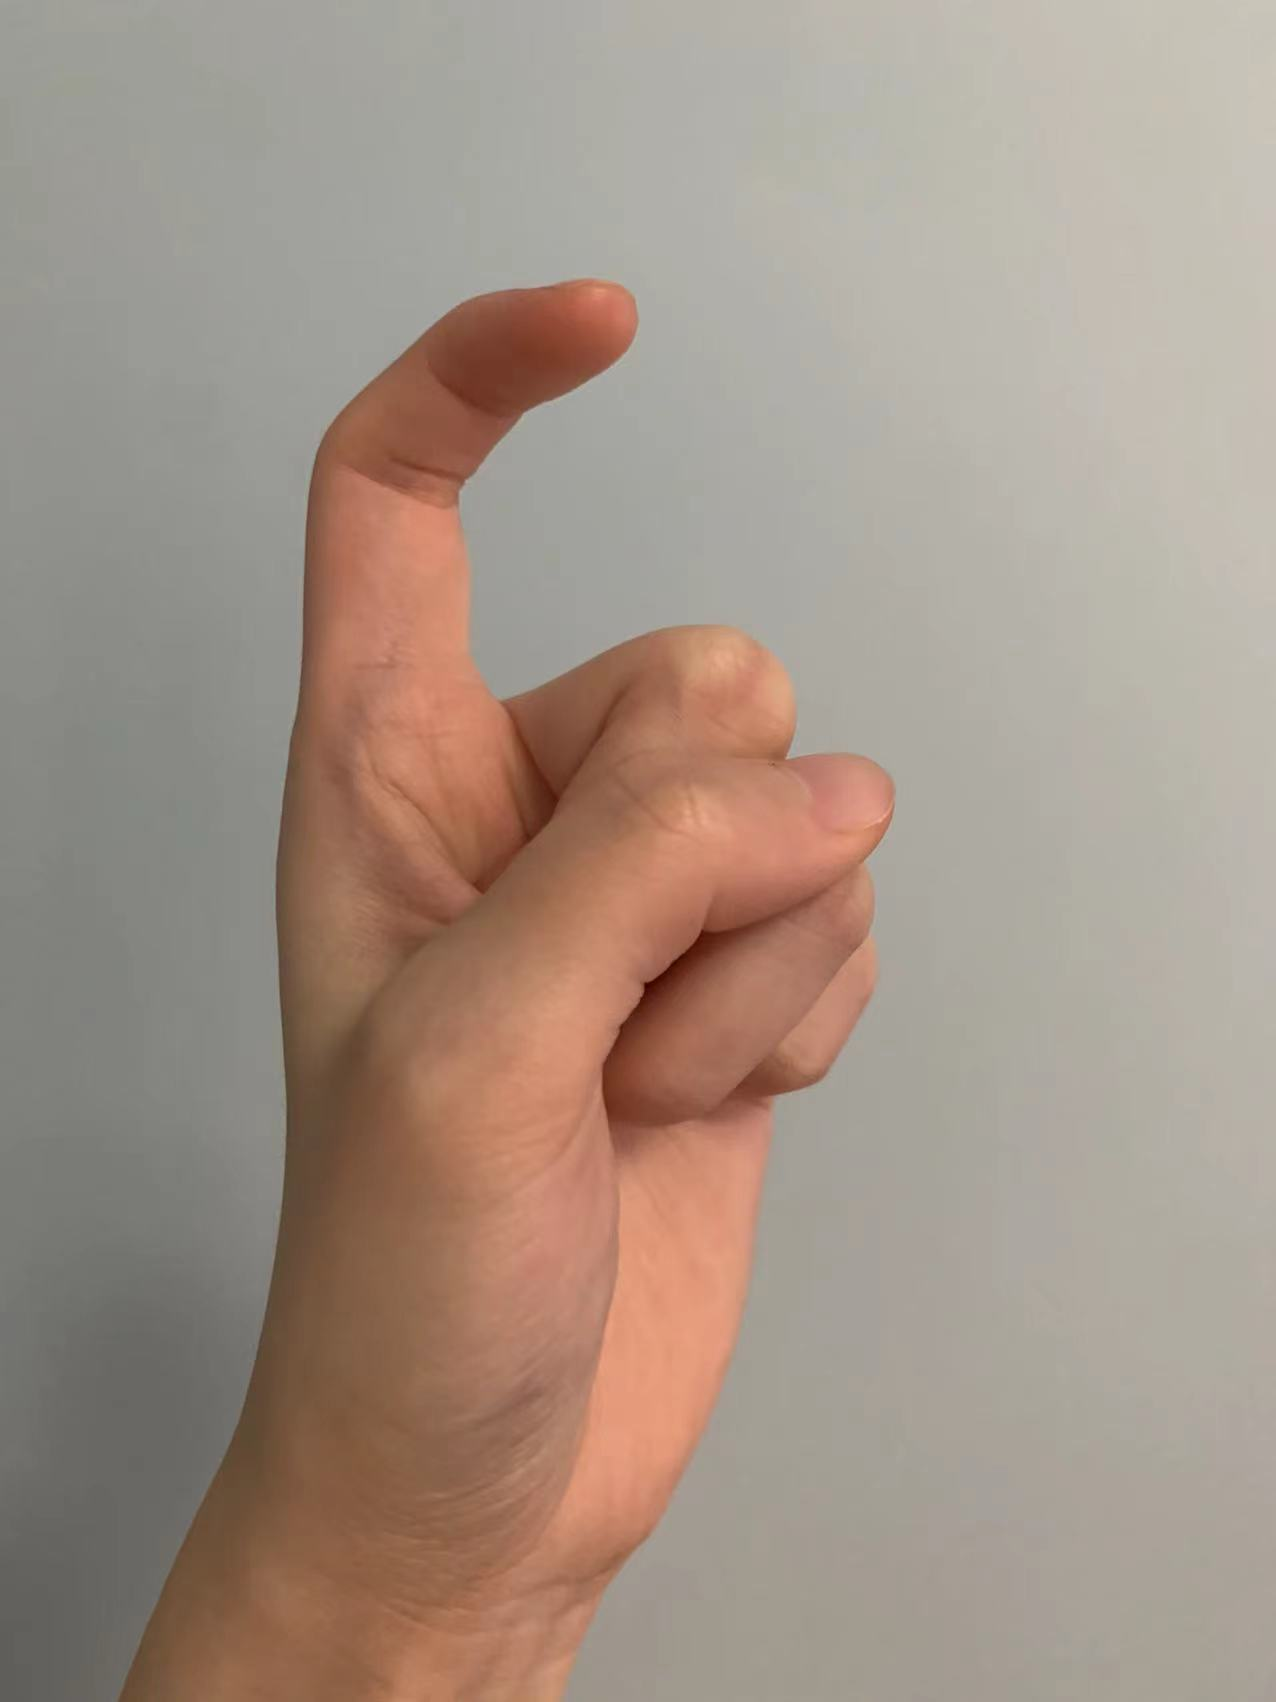anticlockwise: (202, 265, 918, 1533)
